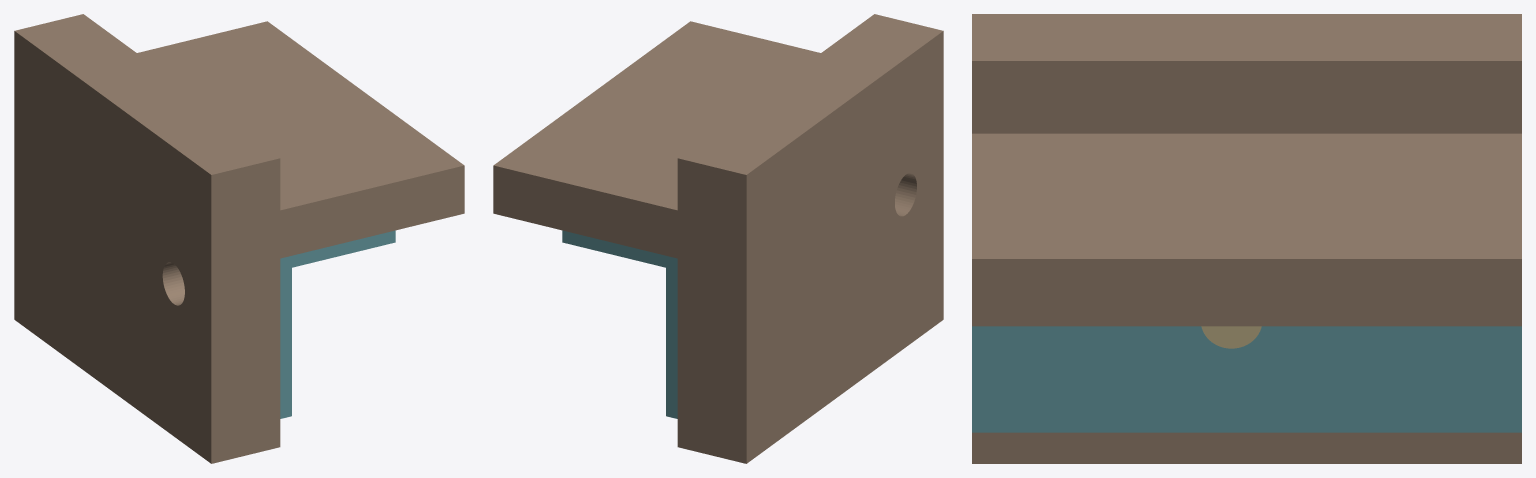
File: shelf-at-divider.glb
The picture shows the model from 3 angles, left to right: view 1: azimuth 30°, elevation 25°; view 2: azimuth 150°, elevation 25°; view 3: azimuth 270°, elevation 25°; orthographic projection. The views are drawn at different scales.
Parts seen in each view (by area): view 1: Center-18, Shelf-Right-1, Angle-Inner-Right-1; view 2: Center-18, Shelf-Right-1, Angle-Inner-Right-1; view 3: Shelf-Right-1, Center-18, Angle-Inner-Right-1, M5x12-Right-1-2.
Boxes of the visible parts, x1=… form: Center-18: x1=14, y1=14, x2=280, y2=463; Shelf-Right-1: x1=137, y1=21, x2=464, y2=258; Angle-Inner-Right-1: x1=280, y1=230, x2=395, y2=418; Center-18: x1=677, y1=14, x2=943, y2=463; Shelf-Right-1: x1=493, y1=21, x2=820, y2=258; Angle-Inner-Right-1: x1=562, y1=230, x2=677, y2=418; Shelf-Right-1: x1=972, y1=133, x2=1521, y2=326; Center-18: x1=972, y1=14, x2=1521, y2=463; Angle-Inner-Right-1: x1=972, y1=326, x2=1521, y2=432; M5x12-Right-1-2: x1=1201, y1=326, x2=1261, y2=348.
Size of the model in its own units: 0.066 by 0.072 by 0.089.
